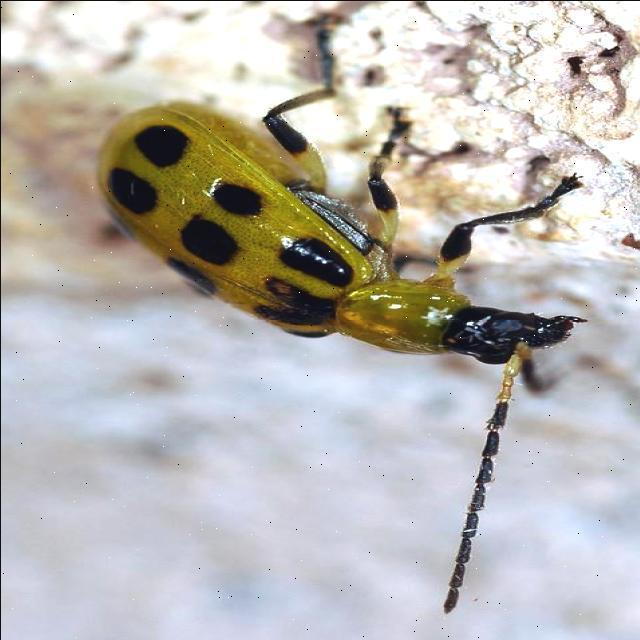gusano_verde: (100, 82, 580, 612)
